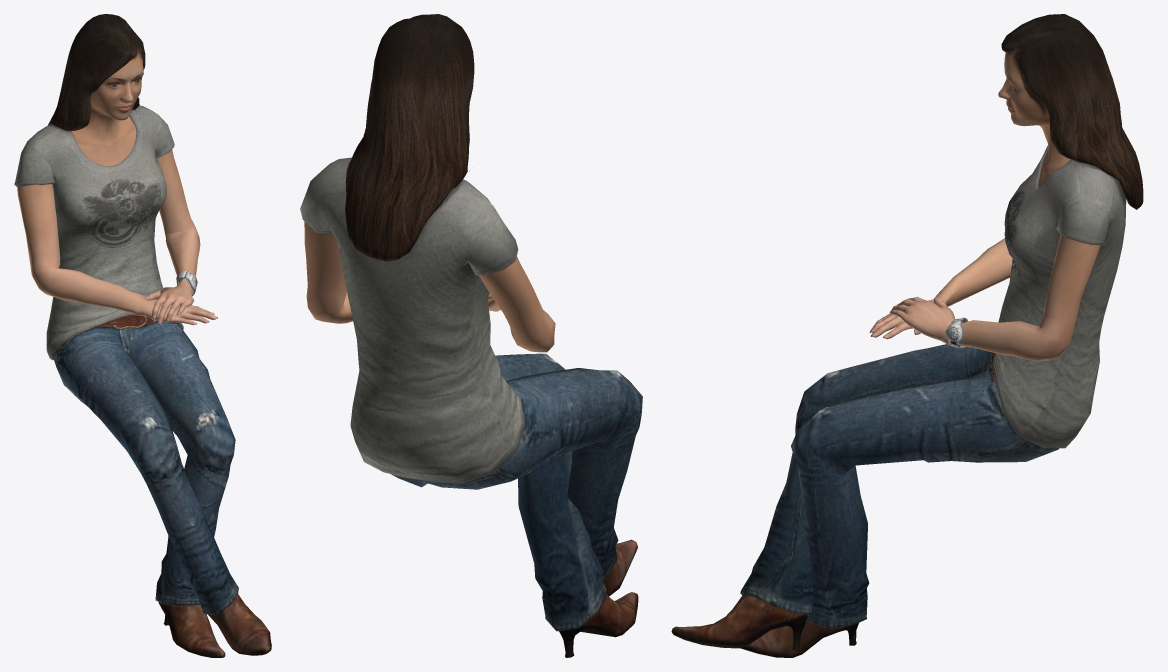
Rendered from Female_Adult_08.glb.
3 renders of one model, left to right at view 1: azimuth 30°, elevation 25°; view 2: azimuth 150°, elevation 25°; view 3: azimuth 270°, elevation 25°, orthographic. The views are drawn at different scales.
Parts seen in each view (by area): view 1: Female_Adult_08; view 2: Female_Adult_08; view 3: Female_Adult_08.
Boxes of the visible parts, <box> form: Female_Adult_08: <box>14,14,271,657</box>; Female_Adult_08: <box>300,14,642,657</box>; Female_Adult_08: <box>671,14,1143,657</box>.
Size of the model in its own units: 0.4689 by 1.42 by 0.961.
3 materials, 3 textured.
